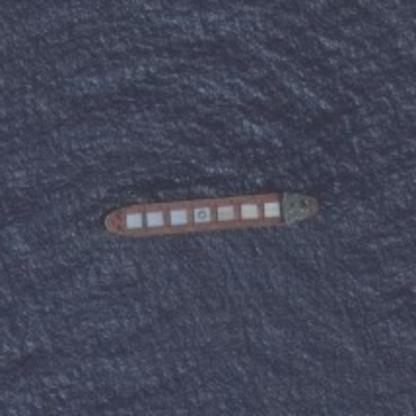ship: (96, 185, 326, 243)
